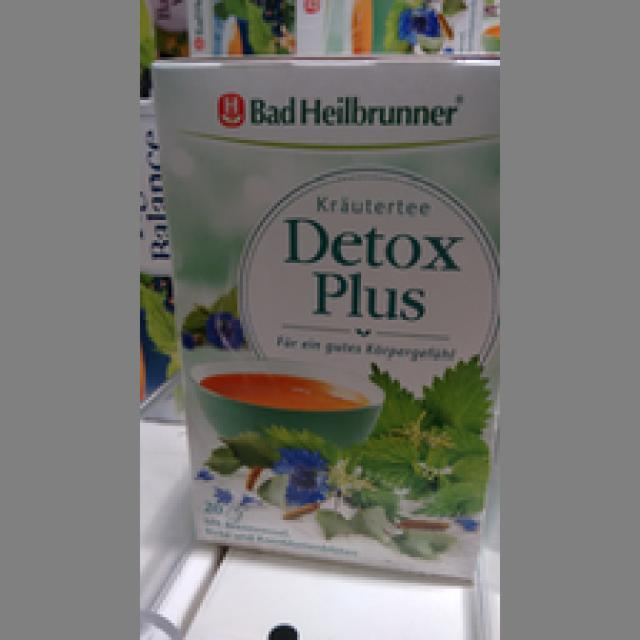groceries: (146, 48, 494, 583)
